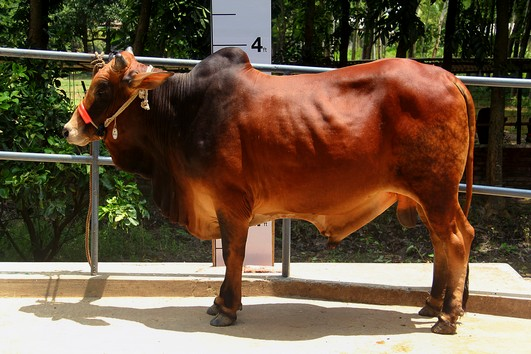cow: (61, 44, 476, 335)
